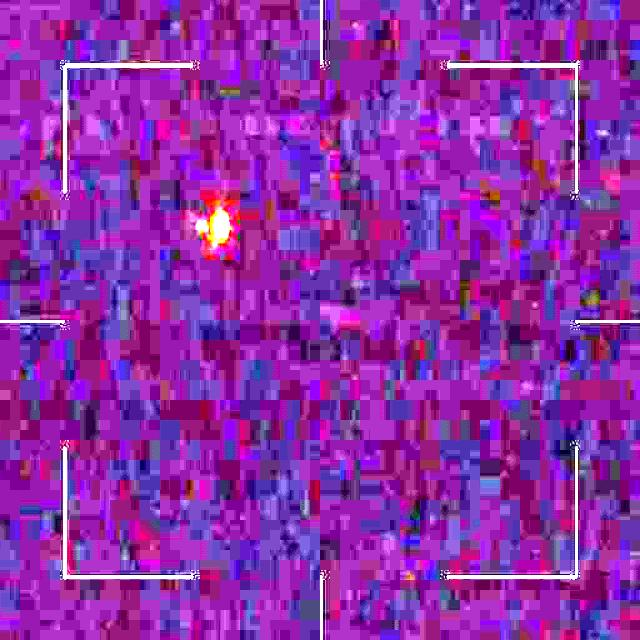bird: (195, 202, 231, 256)
